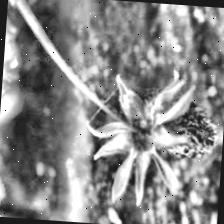Gray Mold: (79, 64, 223, 212)
